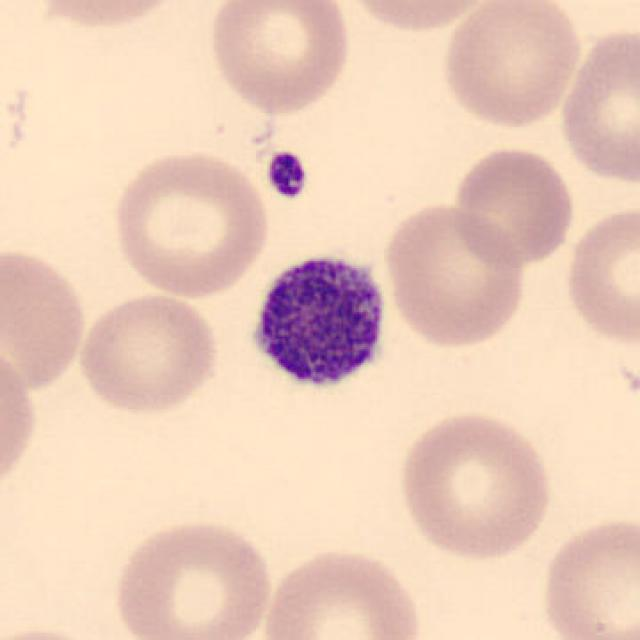Lymphocyte: (248, 238, 396, 401)
Platelets: (263, 148, 309, 201)
RBC: (106, 144, 274, 302), (393, 406, 556, 562), (378, 199, 530, 351), (109, 515, 278, 640), (73, 289, 224, 418), (437, 0, 584, 130), (202, 0, 353, 116), (256, 543, 427, 640), (448, 143, 578, 268), (0, 240, 91, 395), (555, 23, 638, 190), (535, 511, 638, 640), (560, 201, 638, 351), (0, 333, 41, 501), (337, 0, 501, 35), (21, 0, 191, 33)
